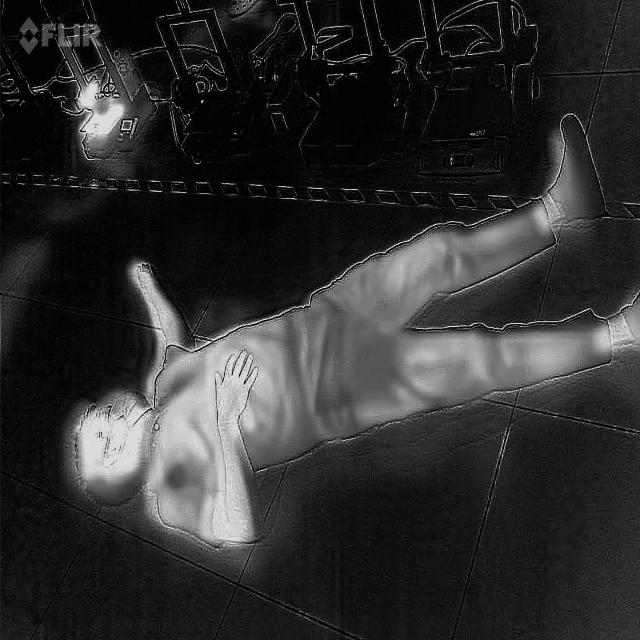Victim: (56, 107, 638, 556)
